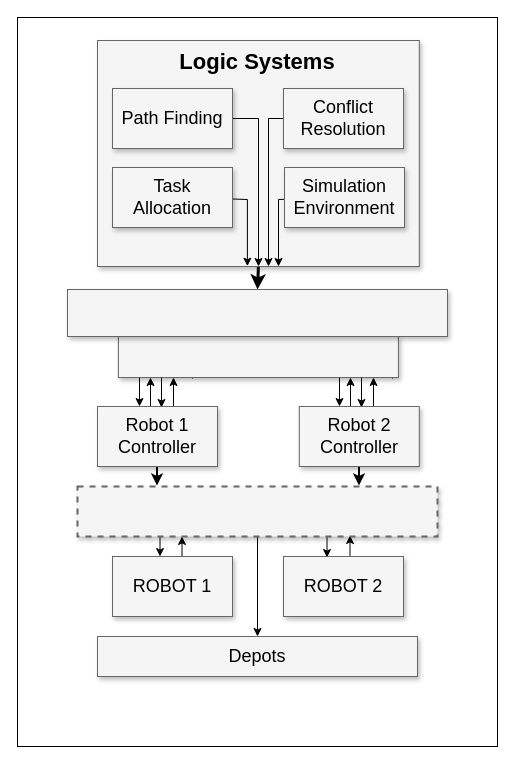
Image size: 515x764. Some labels were removed from this diagram. Each missing label, with the centre of its shape:
Command and Control Server: the point at 258,358
Communication Layer: the point at 258,314
Hardware Layer: the point at 258,512
